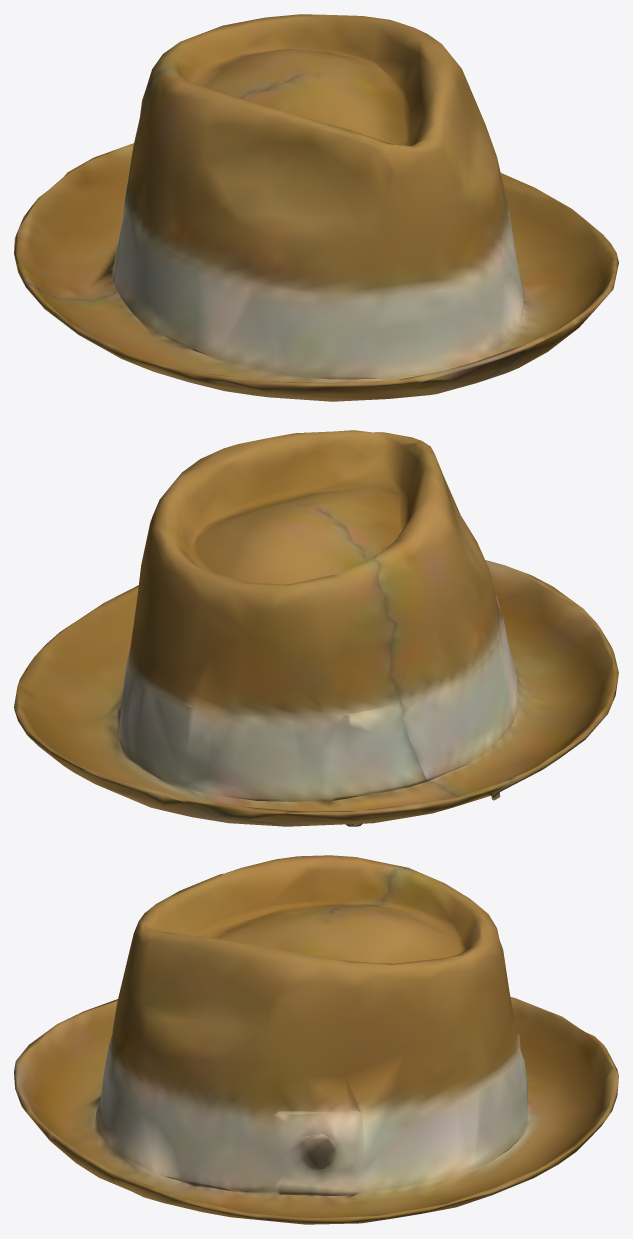
File: Retail_Leadership_Summit-medium.glb
The picture shows the model from 3 angles, top to bottom: view 1: azimuth 30°, elevation 25°; view 2: azimuth 150°, elevation 25°; view 3: azimuth 270°, elevation 25°; orthographic projection. The views are drawn at different scales.
Parts seen in each view (by area): view 1: Retail_Leadership_Summit; view 2: Retail_Leadership_Summit; view 3: Retail_Leadership_Summit.
Boxes of the visible parts, x1=… form: Retail_Leadership_Summit: x1=14, y1=14, x2=618, y2=401; Retail_Leadership_Summit: x1=14, y1=430, x2=618, y2=826; Retail_Leadership_Summit: x1=14, y1=855, x2=618, y2=1224.
Size of the model in its own units: 0.2667 by 0.1178 by 0.2883.
Materials: 1 (1 with a texture image).
